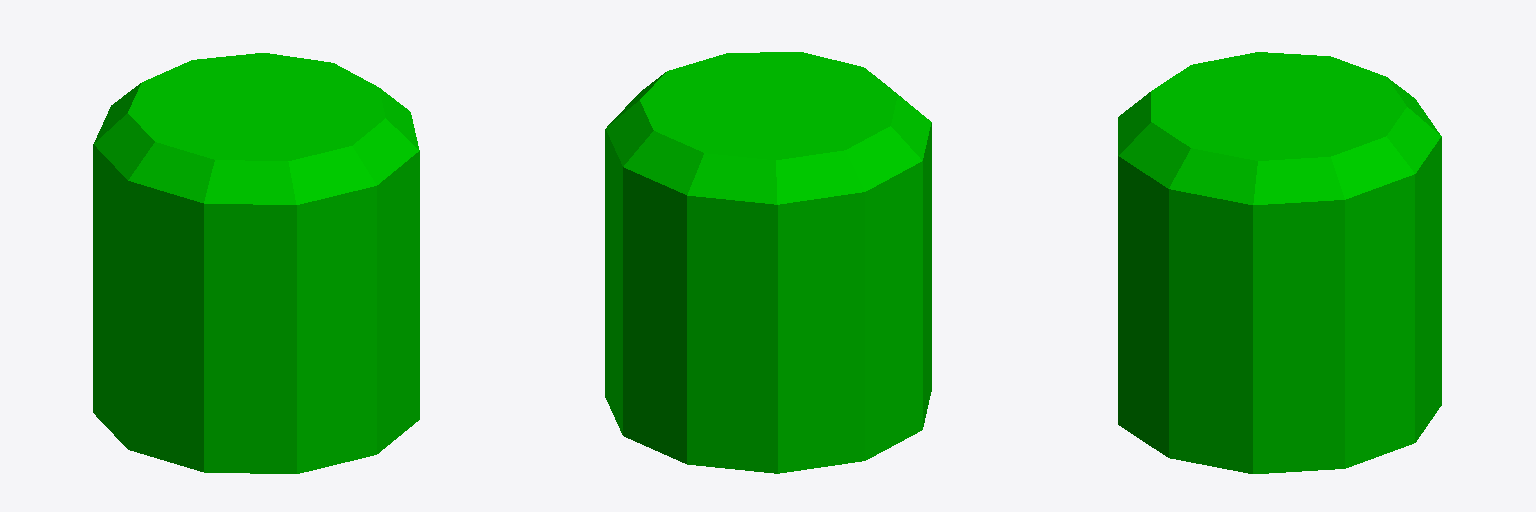
The model's file is down_button.obj.
3 renders of one model, left to right at view 1: azimuth 30°, elevation 25°; view 2: azimuth 150°, elevation 25°; view 3: azimuth 270°, elevation 25°, orthographic.
Visible parts, largest first — view 1: down; view 2: down; view 3: down.
Part boxes in pixels (left/top/right/bottom): down: left=93, top=53, right=419, bottom=473; down: left=605, top=52, right=931, bottom=473; down: left=1118, top=52, right=1441, bottom=473.
Bounding box in the file's own units: 0.1729 × 0.1746 × 0.1711.